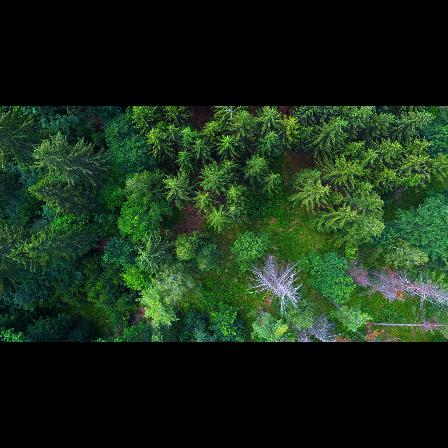Dead: (246, 253, 308, 312), (348, 272, 448, 306), (301, 316, 339, 342)
